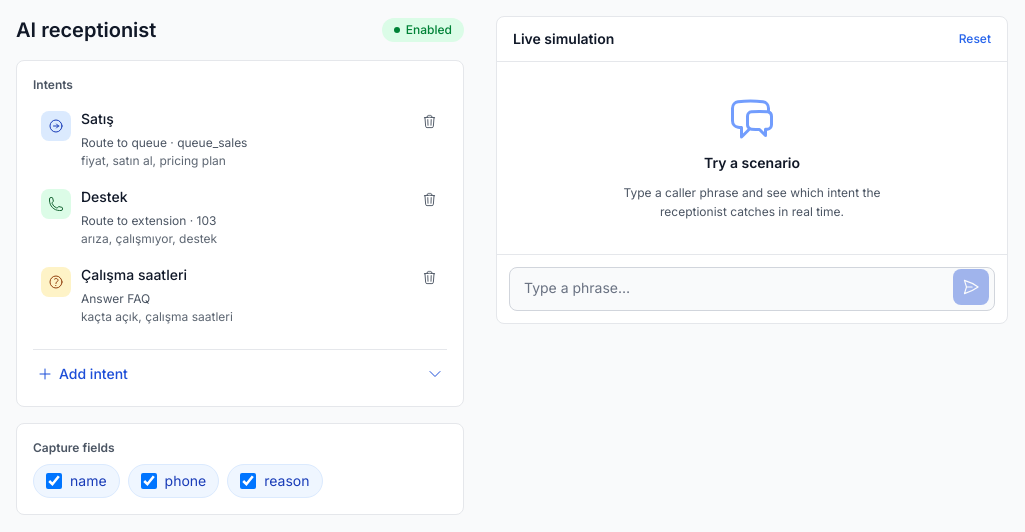
Test case: ReceptionistBuilder › canlı simülasyonda intent algılar
In the text box with placeholder "Type a phrase…": (752, 289) [509,267,995,311], type "fiyat"
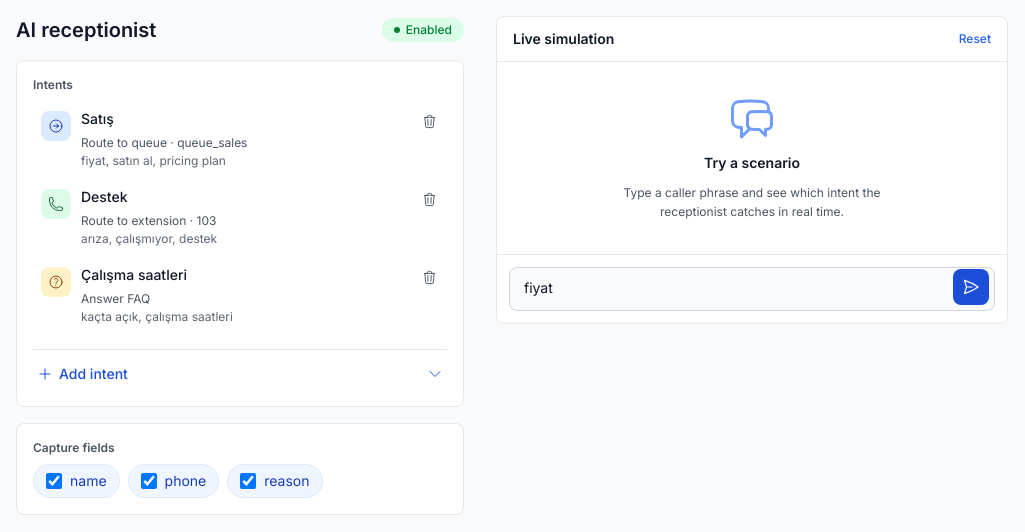
Click the button named "Send": (971, 287) [953,269,989,305]
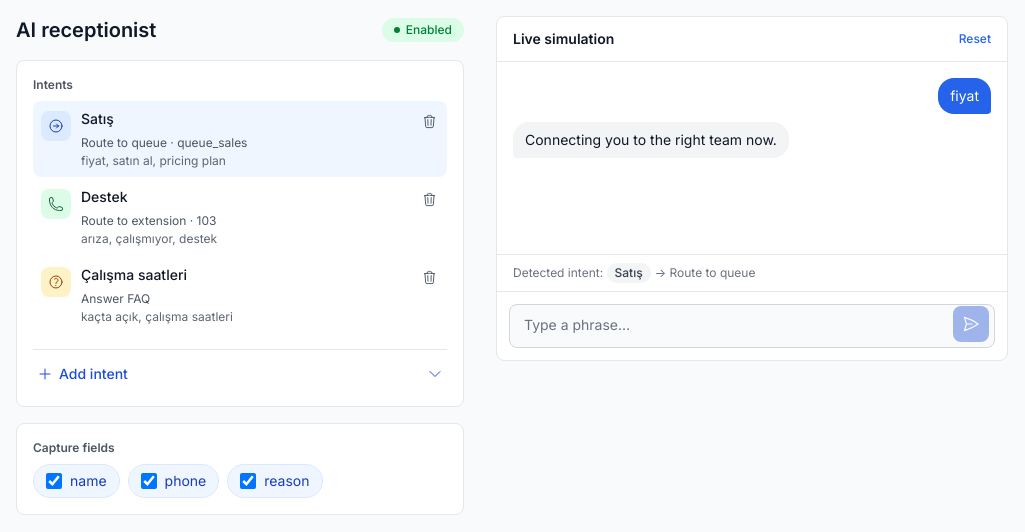
Result: the text "Connecting you to the right team now." is shown at [513,122,789,158]
